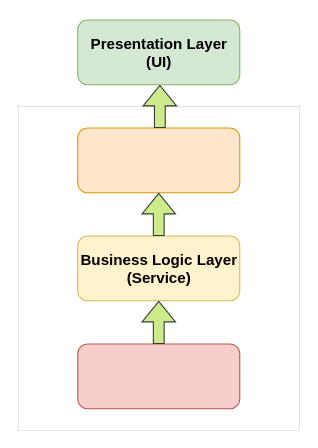
Image size: 318x448. Some labels were removed from this diagram. The box of each missing label's shape, as (x1, y1, x2, y2) in pixels:
Data Interface Layer (Repository): (77, 343, 240, 409)
Services Layer (Controller): (77, 127, 240, 193)
